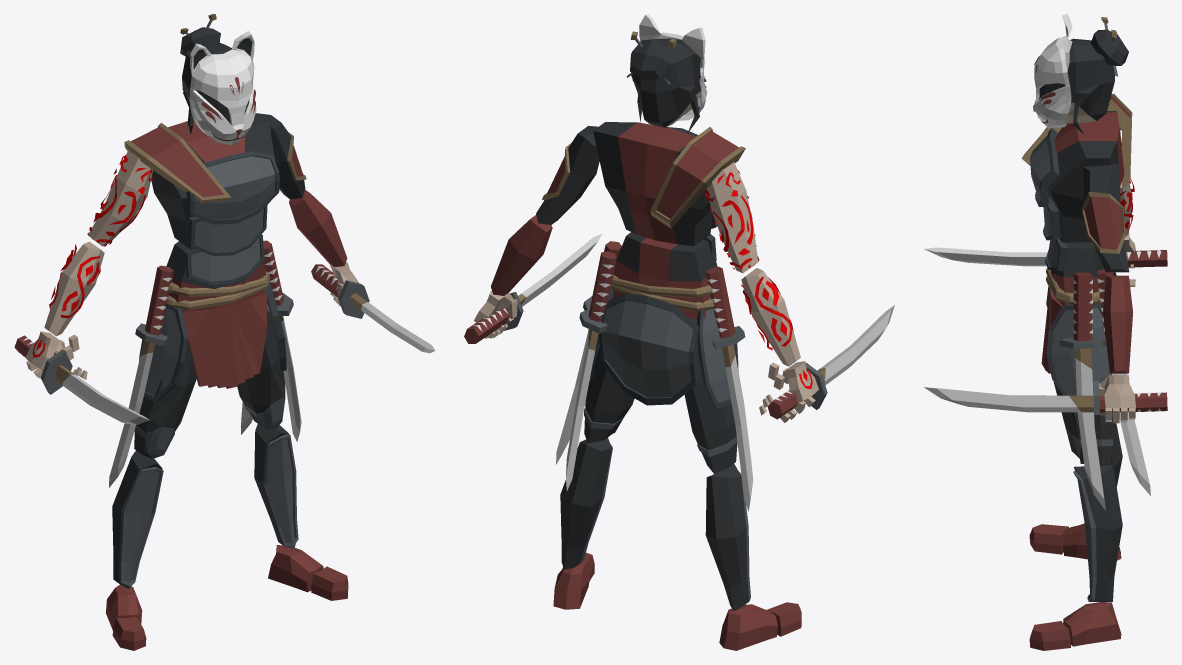
Rendered from Akane.fbx.
The picture shows the model from 3 angles, left to right: view 1: azimuth 30°, elevation 25°; view 2: azimuth 150°, elevation 25°; view 3: azimuth 270°, elevation 25°; orthographic projection. The views are drawn at different scales.
Visible parts, largest first — view 1: pasted__pPlane6, pPlane3, pCube22 (×4), polySurface130, pCube11, polySurface129, pCube15, polySurface123, polySurface131, polySurface128, pCube13, polySurface124 (+21 smaller); view 2: pCube14, polySurface123, pCube22 (×5), polySurface130, polySurface126, polySurface129, pCube15, pCube8, polySurface131, polySurface122, polySurface124, polySurface128 (+17 smaller); view 3: pCube22 (×4), polySurface123, polySurface129, polySurface122, pCube8, pCube12, pPlane3, polySurface121, polySurface76, pCube23, polySurface126, pCube11 (+13 smaller).
Part boxes in pixels (x1,y1,x2,y2): pasted__pPlane6: (183, 291, 266, 388); pPlane3: (189, 31, 256, 145); pCube22 (×4): (54, 293, 435, 487); polySurface130: (112, 450, 163, 588); pCube11: (186, 151, 279, 224); polySurface129: (254, 424, 298, 548); pCube15: (124, 123, 230, 203); polySurface123: (152, 113, 275, 249); polySurface131: (134, 342, 196, 458); polySurface128: (237, 308, 285, 430); pCube13: (139, 303, 187, 402); polySurface124: (88, 150, 152, 246); pCube14: (599, 293, 699, 405); polySurface123: (593, 122, 712, 246); pCube22 (×5): (518, 233, 894, 511); polySurface130: (705, 464, 750, 611); polySurface126: (612, 232, 717, 319); polySurface129: (560, 437, 612, 569); pCube15: (650, 127, 745, 228); pCube8: (631, 38, 700, 127); polySurface131: (684, 319, 737, 473); polySurface122: (536, 125, 599, 224); polySurface124: (706, 162, 758, 272); polySurface128: (584, 347, 634, 443); pCube22 (×4): (924, 247, 1150, 510); polySurface123: (1047, 111, 1124, 242); polySurface129: (1073, 465, 1122, 601); polySurface122: (1082, 164, 1129, 272); pCube8: (1067, 38, 1114, 123); pCube12: (1046, 302, 1111, 395); pPlane3: (1033, 14, 1072, 127); polySurface121: (1103, 275, 1133, 373); polySurface76: (1063, 602, 1121, 646); pCube23: (1059, 272, 1102, 348); polySurface126: (1051, 242, 1103, 305); pCube11: (1030, 128, 1059, 206).
Size of the model in its own units: 4.04 by 6.83 by 2.64.
